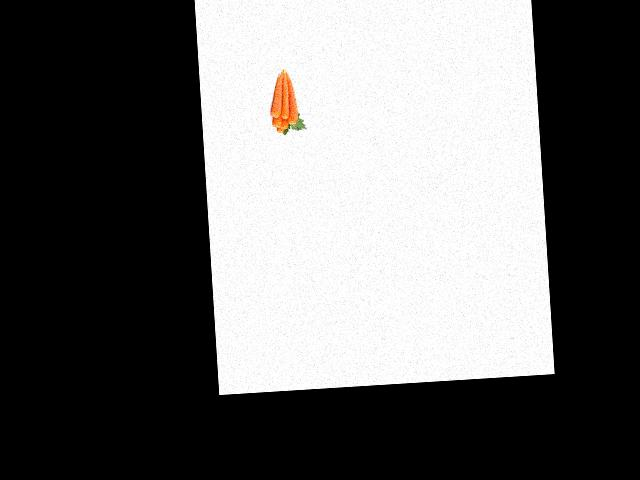carrot: (276, 126, 284, 135)
